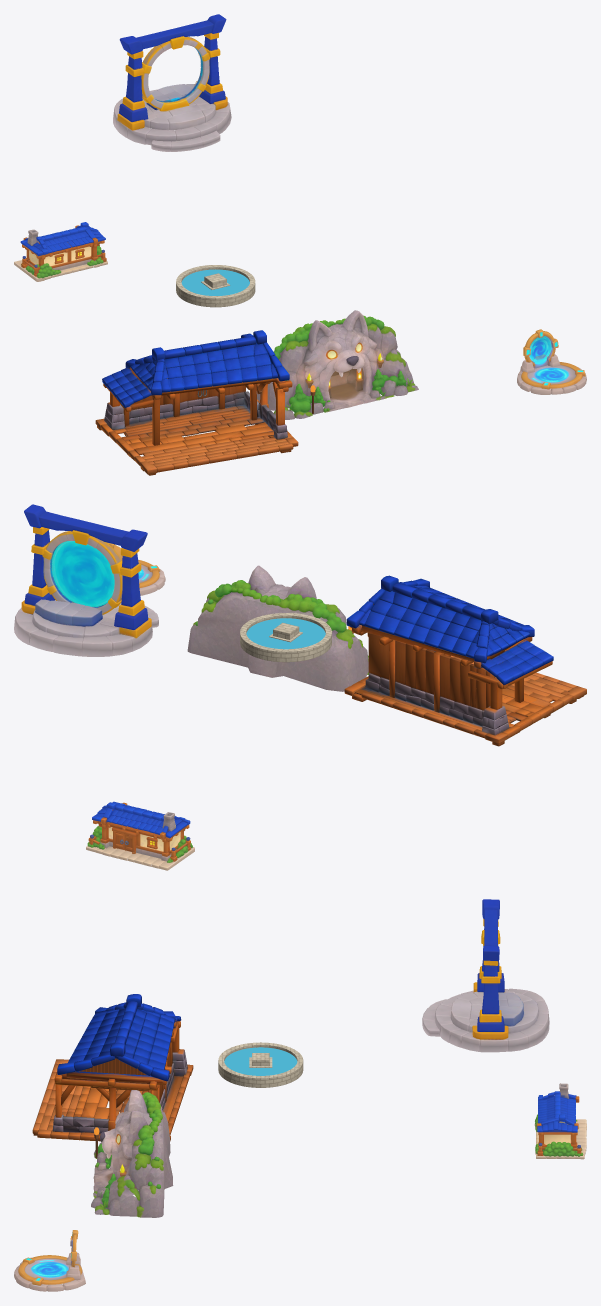
File: village_lite.glb
The picture shows the model from 3 angles, top to bottom: view 1: azimuth 30°, elevation 25°; view 2: azimuth 150°, elevation 25°; view 3: azimuth 270°, elevation 25°; orthographic projection. The views are drawn at different scales.
Visible parts, largest first — view 1: workshop, cave, portal, storehouse, portal_small, Fountain, FountainWater; view 2: workshop, portal, cave, storehouse, Fountain, FountainWater, portal_small; view 3: workshop, portal, cave, storehouse, portal_small, Fountain, FountainWater.
Boxes of the visible parts, x1=… form: workshop: x1=95, y1=330, x2=298, y2=475; cave: x1=256, y1=310, x2=418, y2=419; portal: x1=113, y1=14, x2=231, y2=151; storehouse: x1=14, y1=222, x2=107, y2=281; portal_small: x1=517, y1=329, x2=586, y2=394; Fountain: x1=176, y1=265, x2=255, y2=307; FountainWater: x1=181, y1=269, x2=249, y2=295; workshop: x1=344, y1=575, x2=586, y2=746; portal: x1=14, y1=504, x2=158, y2=656; cave: x1=187, y1=565, x2=368, y2=691; storehouse: x1=86, y1=801, x2=194, y2=870; Fountain: x1=240, y1=613, x2=331, y2=662; FountainWater: x1=246, y1=618, x2=325, y2=649; portal_small: x1=108, y1=543, x2=165, y2=595; workshop: x1=32, y1=994, x2=193, y2=1141; portal: x1=422, y1=899, x2=549, y2=1052; cave: x1=91, y1=1090, x2=173, y2=1217; storehouse: x1=534, y1=1083, x2=586, y2=1159; portal_small: x1=14, y1=1230, x2=85, y2=1291; Fountain: x1=218, y1=1042, x2=303, y2=1087; FountainWater: x1=224, y1=1047, x2=297, y2=1075.
Size of the model in its own units: 37.76 by 20.36 by 40.49.
Materials: 10 (6 with a texture image).
